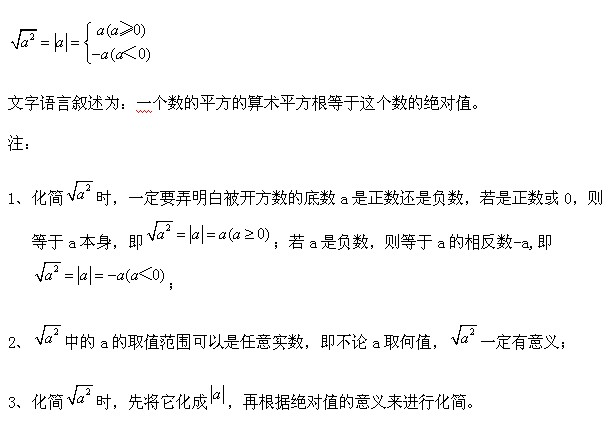sqrt: (450, 321, 482, 349), (8, 25, 38, 52), (65, 380, 94, 406), (68, 177, 94, 205), (35, 323, 63, 346), (35, 260, 62, 283), (146, 218, 172, 241)
square: (52, 263, 62, 274), (82, 385, 91, 397), (164, 220, 172, 233), (52, 326, 60, 338), (28, 30, 35, 43), (469, 324, 475, 337), (83, 183, 91, 192)
